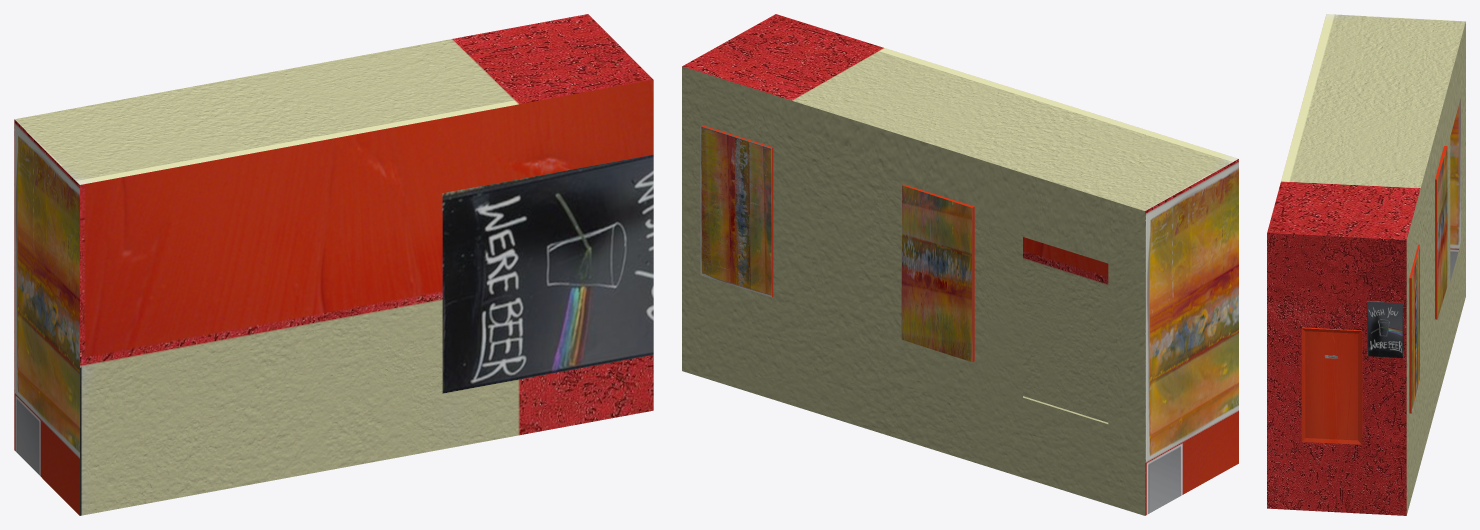
Rendered from toilet_block.fbx.
3 renders of one model, left to right at view 1: azimuth 30°, elevation 25°; view 2: azimuth 150°, elevation 25°; view 3: azimuth 270°, elevation 25°, orthographic. The views are drawn at different scales.
Visible parts, largest first — view 1: toilet_block; view 2: toilet_block; view 3: toilet_block.
Boxes of the visible parts, left/top/right/bottom form: toilet_block: left=14, top=14, right=653, bottom=515; toilet_block: left=682, top=14, right=1238, bottom=515; toilet_block: left=1267, top=14, right=1465, bottom=515.
Bounding box in the file's own units: 10.51 × 5.97 × 3.9.
Materials: 1 (1 with a texture image).
